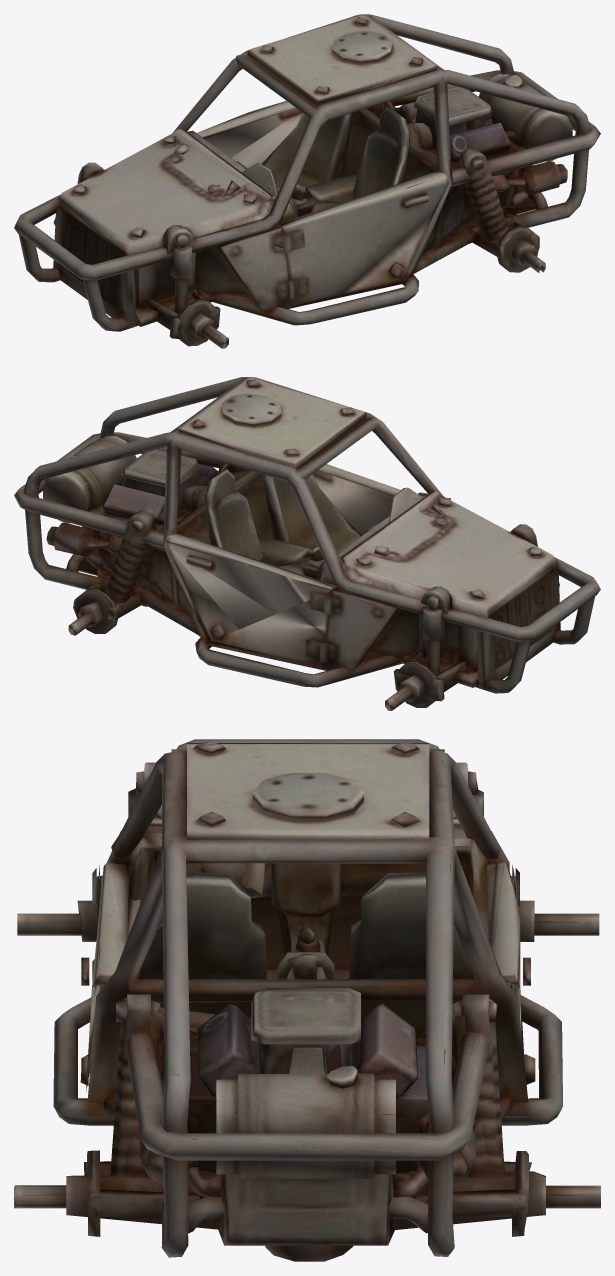
File: car_s_body.glb
3 views of the same model, one above another, from view 1: azimuth 30°, elevation 25°; view 2: azimuth 150°, elevation 25°; view 3: azimuth 270°, elevation 25° (orthographic). The views are drawn at different scales.
Parts seen in each view (by area): view 1: geometry_0; view 2: geometry_0; view 3: geometry_0.
Boxes of the visible parts, left/top/right/bottom form: geometry_0: left=14, top=14, right=600, bottom=348; geometry_0: left=14, top=377, right=600, bottom=710; geometry_0: left=14, top=739, right=600, bottom=1261.
Size of the model in its own units: 0.9541 by 0.3804 by 0.5371.
Materials: 1 (1 with a texture image).
